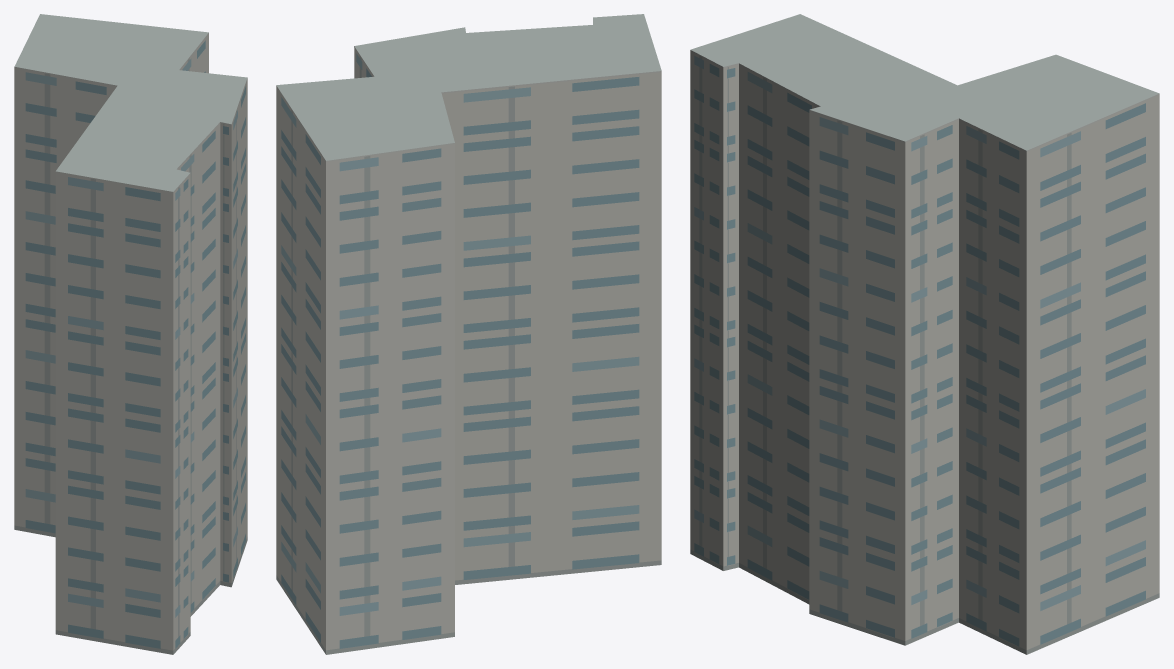
The model's file is residential-5f16c0fc-64cf-47c8-b811-c8d8cf1576a4.glb.
The picture shows the model from 3 angles, left to right: view 1: azimuth 30°, elevation 25°; view 2: azimuth 150°, elevation 25°; view 3: azimuth 270°, elevation 25°; orthographic projection. The views are drawn at different scales.
Visible parts, largest first — view 1: residential-5f16c0fc-64cf-47c8-b811-c8d8cf1576a4.tmp; view 2: residential-5f16c0fc-64cf-47c8-b811-c8d8cf1576a4.tmp; view 3: residential-5f16c0fc-64cf-47c8-b811-c8d8cf1576a4.tmp.
Boxes of the visible parts, x1,y1,x2,y2 form: residential-5f16c0fc-64cf-47c8-b811-c8d8cf1576a4.tmp: [14, 14, 247, 654]; residential-5f16c0fc-64cf-47c8-b811-c8d8cf1576a4.tmp: [276, 14, 661, 654]; residential-5f16c0fc-64cf-47c8-b811-c8d8cf1576a4.tmp: [690, 14, 1159, 654].
Bounding box in the file's own units: 59.93 × 103 × 86.94.
